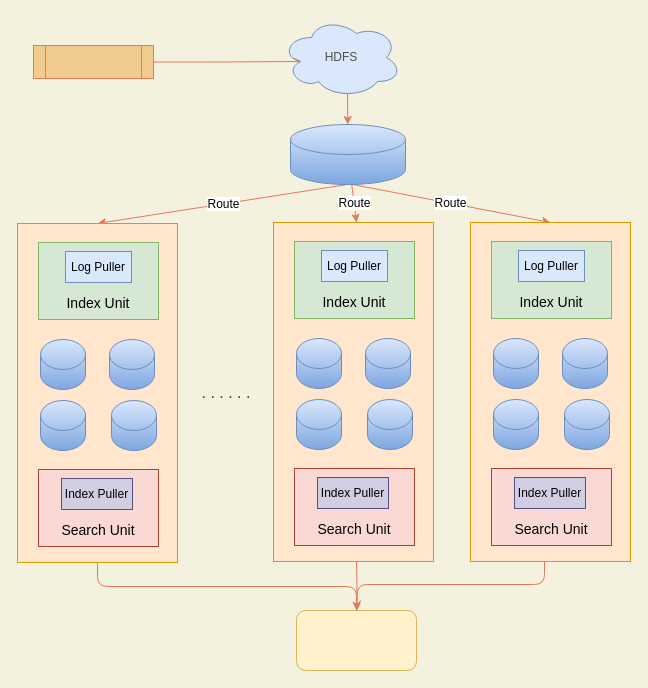
The diagram is 648 pixels wide and 688 high, and some of its shapes have lost their labels. The centre of each missing label's shape, as x and y in pixels:
Data Warehouse: point (348, 154)
MapReduce: point (93, 61)
Proxy: point (356, 640)
